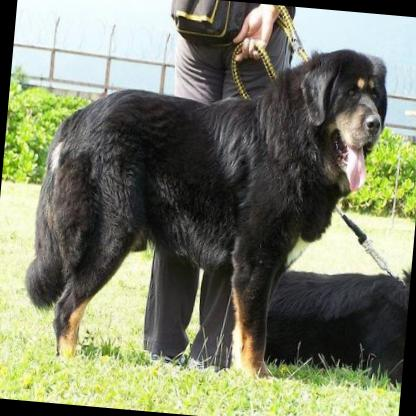Tibetan_mastiff: (13, 19, 394, 387)
